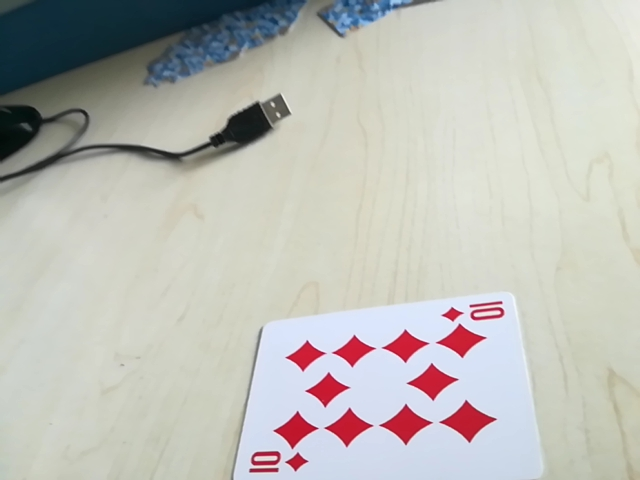fk 10: (440, 294, 512, 330), (243, 450, 312, 477)
